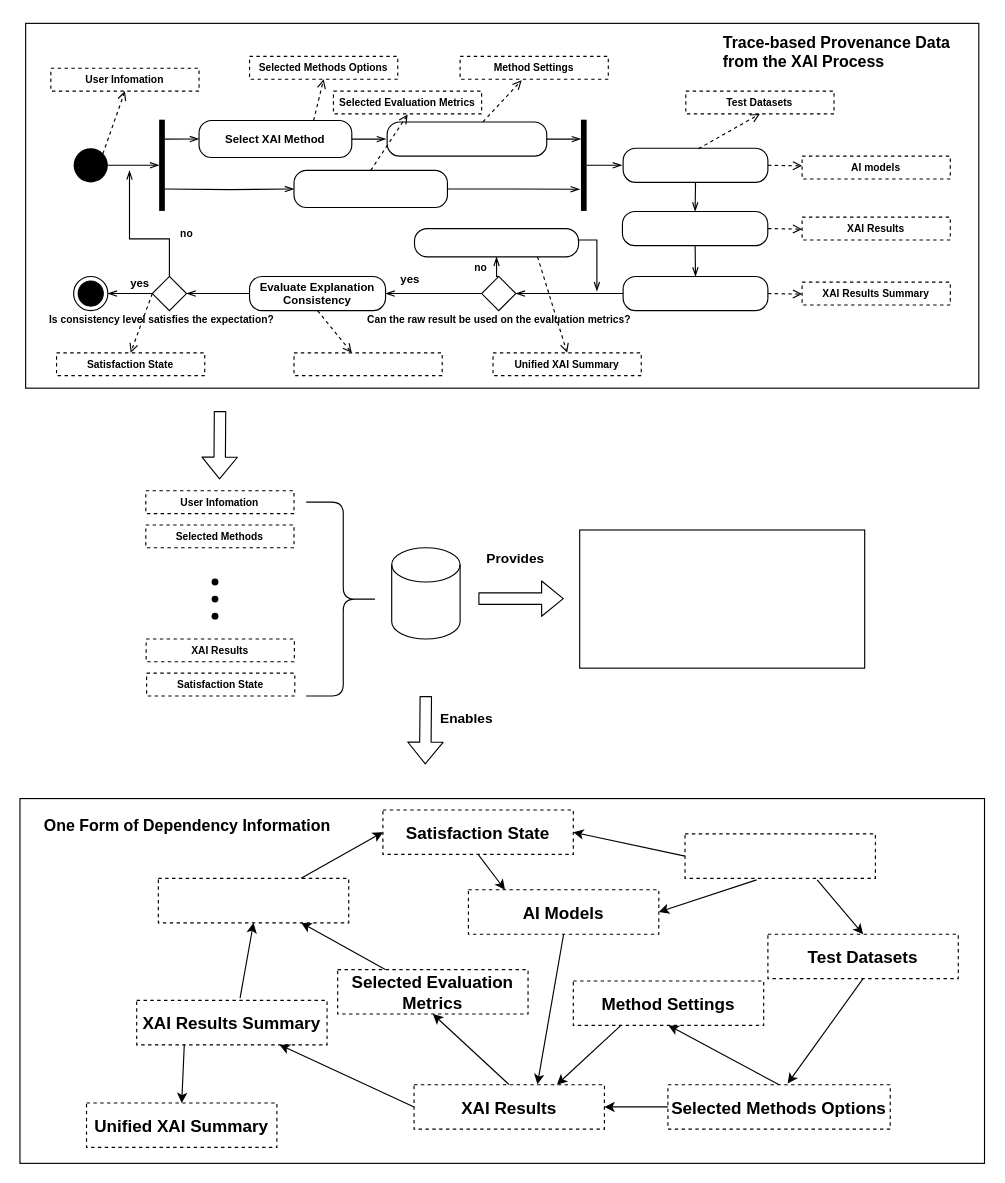
This 1005x1183 diagram has some shape labels left out. The shapes that lost their labels are listed below. From the top down, each one's centre as x and y in pixels, then its label:
(466,138): Develop XAI Method
(695,164): Process Data
(370,188): Define Explanation Consistency
(496,242): Unified Explanation Summary
(694,228): Execute XAI Method
(695,293): Present Explanation Summary
(367,364): Evaluation Results
(425,593): Provenance Metadata
(722,598): XAI Data Traceability XAI Process Transparency
(779,855): User Information
(253,900): Consistency Value
